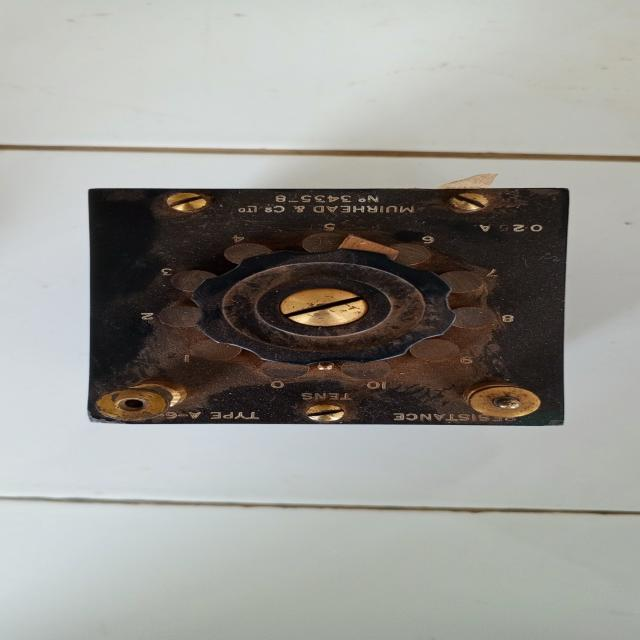Set of Resistances: (55, 177, 611, 438)
